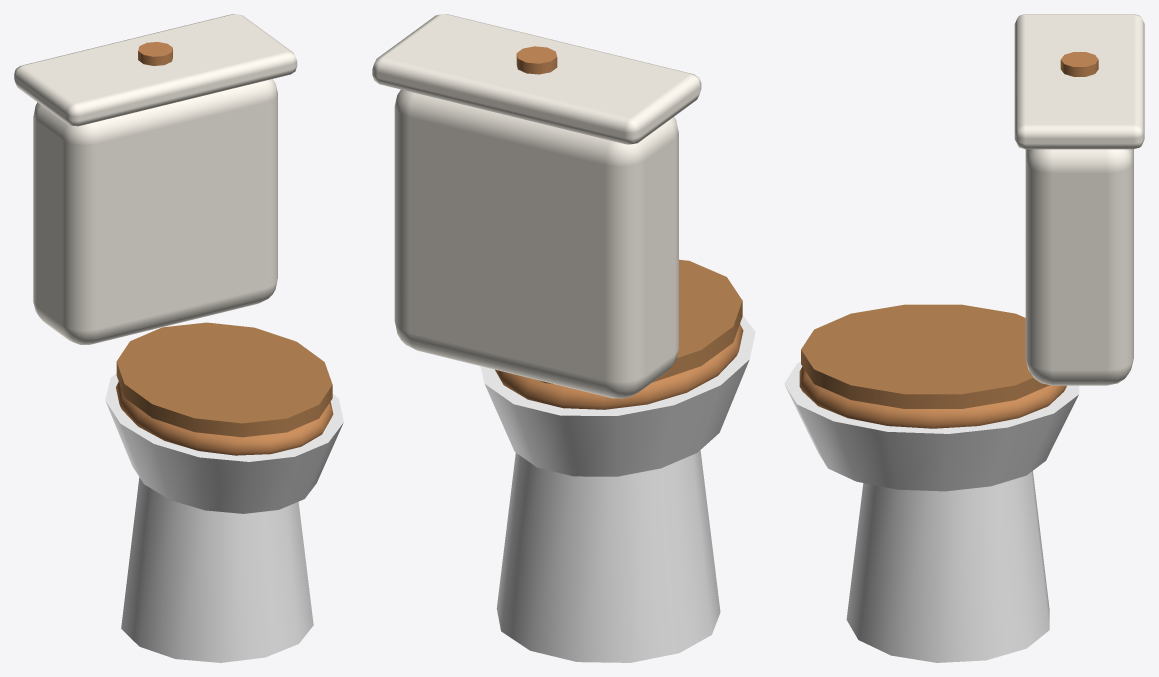
The model's file is toilet-wood.glb.
3 views of the same model, side by side, from view 1: azimuth 30°, elevation 25°; view 2: azimuth 150°, elevation 25°; view 3: azimuth 270°, elevation 25° (orthographic). The views are drawn at different scales.
Bounding box in the file's own units: 0.52 × 1.14 × 0.665.
